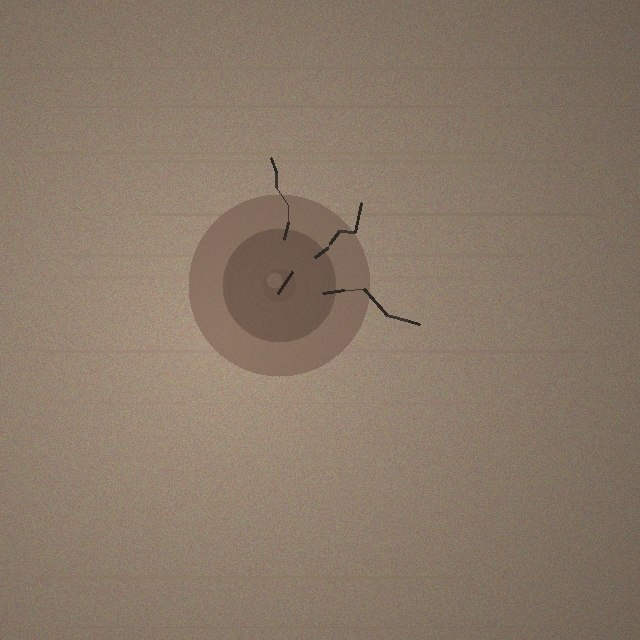crack: (188, 194, 370, 376)
